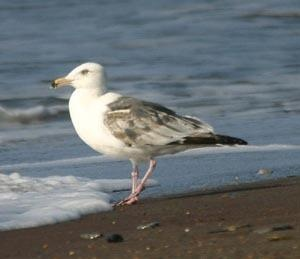bird: (47, 61, 247, 204)
